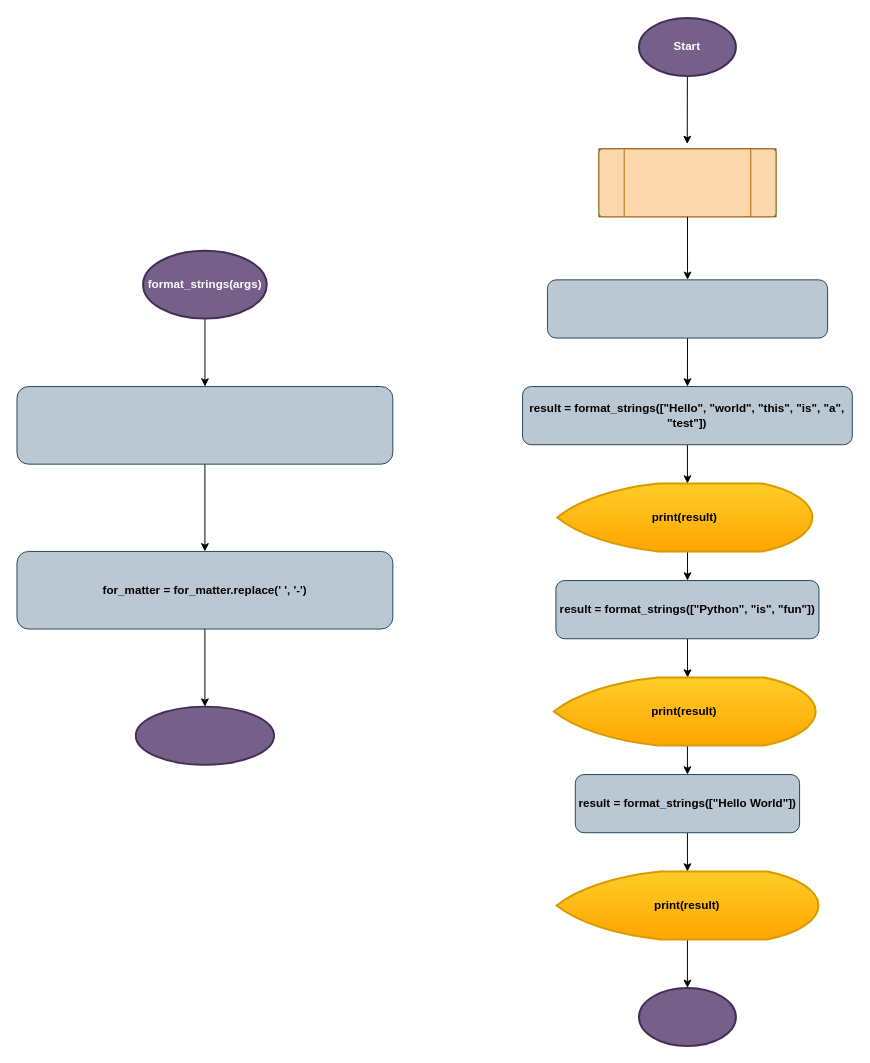
This 870x1063 diagram has some shape labels left out. The shapes that lost their labels are listed below. From the top down, each one's box as (x1, y1, x2, y2) in pixels, then its label:
(598, 148, 776, 217): format_strings(*args)
(546, 279, 828, 338): Main Execution
(16, 386, 393, 464): for_matter = ''.join(str(arg).upper() for arg in args)
(134, 705, 275, 765): return for_matter
(637, 986, 736, 1047): End
